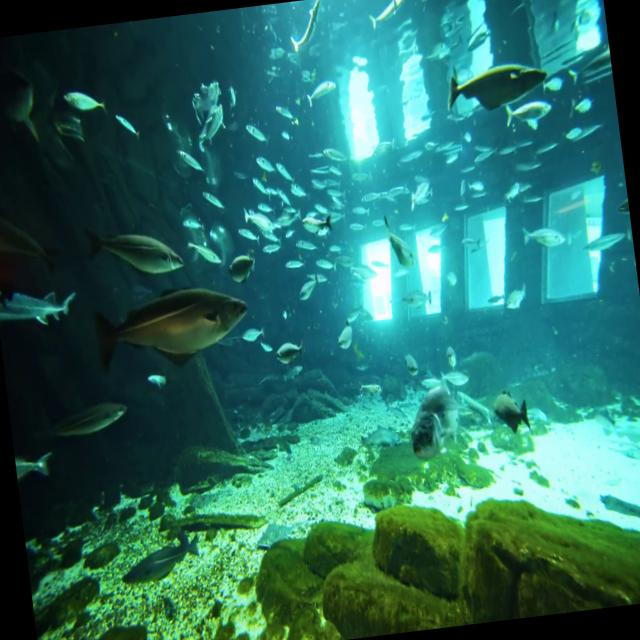fish: (90, 274, 257, 392), (79, 205, 189, 292), (433, 48, 553, 119), (396, 366, 476, 471), (109, 518, 208, 590), (0, 247, 82, 332), (36, 387, 138, 451), (0, 55, 50, 156), (486, 376, 542, 447), (381, 219, 422, 295), (285, 0, 335, 62), (58, 70, 112, 124), (500, 91, 561, 138), (576, 218, 634, 264), (216, 238, 266, 291), (12, 430, 56, 486), (520, 216, 568, 262), (295, 69, 343, 114), (195, 96, 233, 152), (108, 94, 144, 150), (500, 266, 532, 322), (240, 193, 276, 242), (366, 0, 413, 36), (176, 134, 210, 182), (272, 328, 310, 370), (298, 204, 338, 242), (240, 114, 273, 156), (198, 180, 230, 218), (436, 342, 468, 374), (247, 148, 278, 178), (271, 149, 295, 179)
